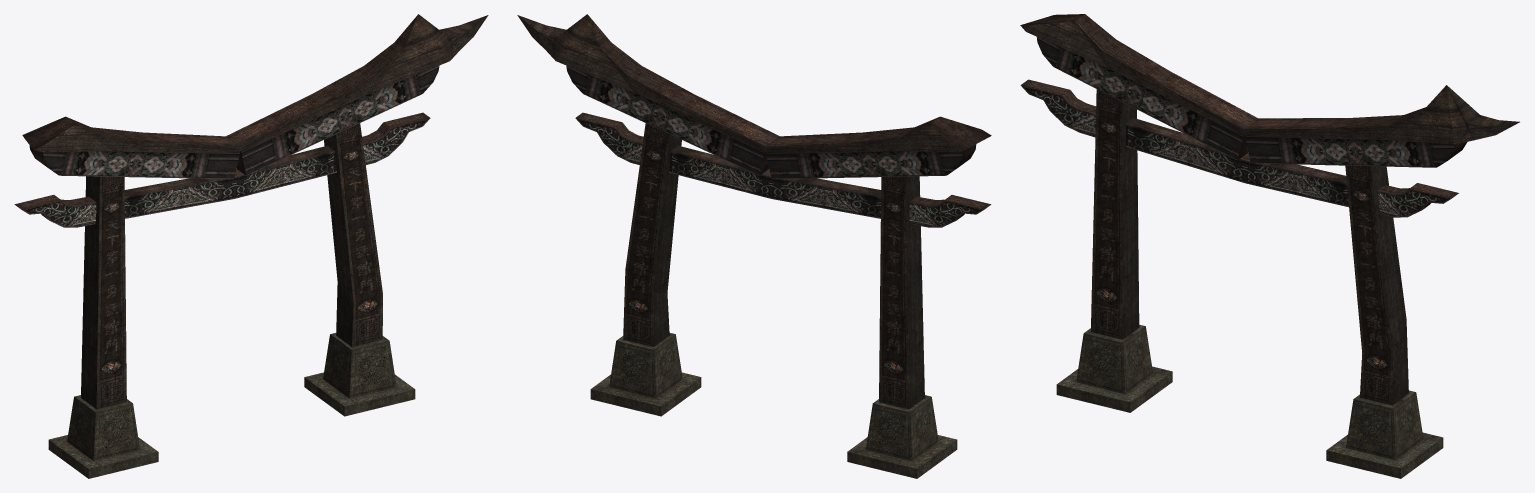
The model's file is ep-035-woodgate.fbx.
3 renders of one model, left to right at view 1: azimuth 30°, elevation 25°; view 2: azimuth 150°, elevation 25°; view 3: azimuth 330°, elevation 25°, orthographic. The views are drawn at different scales.
Parts seen in each view (by area): view 1: m; view 2: m; view 3: m.
Boxes of the visible parts, x1,y1,x2,y2 form: m: [14, 14, 488, 478]; m: [517, 14, 991, 478]; m: [1020, 14, 1519, 478].
Size of the model in its own units: 18.43 by 13.65 by 2.72.
